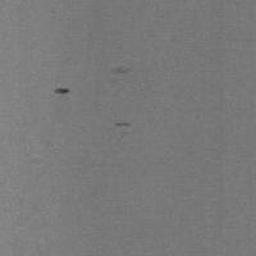Inclusion: (111, 67, 131, 74), (54, 88, 70, 95), (115, 122, 131, 127)
